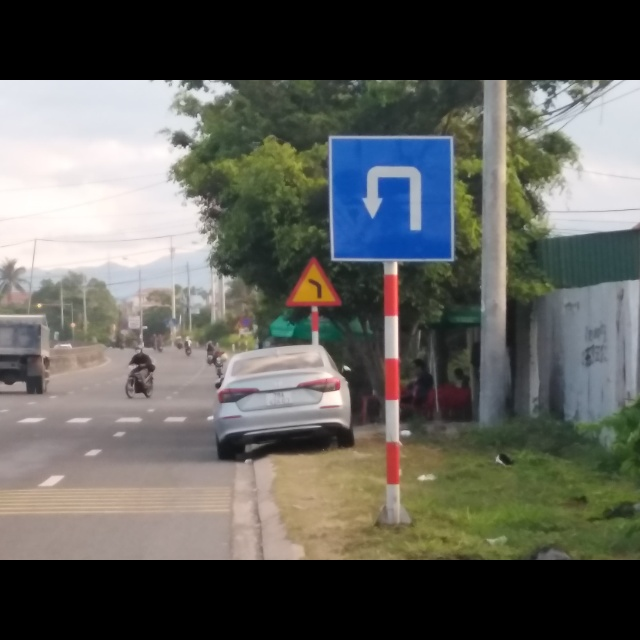Khu vực quay đầu xe: (326, 132, 457, 265)
